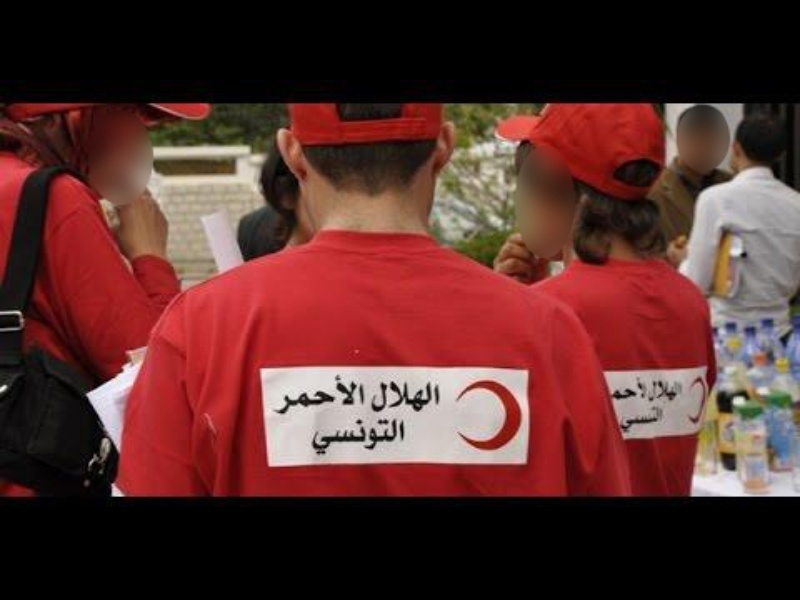text: (289, 372, 304, 417), (305, 372, 320, 417), (321, 372, 336, 417), (337, 372, 352, 417), (353, 372, 367, 417), (321, 416, 336, 457), (337, 416, 352, 457), (353, 416, 368, 457), (369, 416, 384, 457), (385, 416, 400, 457), (369, 377, 384, 414), (385, 377, 400, 414), (401, 377, 416, 414), (417, 377, 432, 414), (625, 402, 640, 436), (641, 402, 656, 436), (609, 376, 624, 406), (625, 376, 640, 406), (657, 377, 672, 402), (311, 416, 320, 457), (657, 402, 666, 436), (433, 377, 441, 414), (673, 377, 684, 402), (616, 402, 624, 436), (282, 372, 288, 417), (401, 416, 407, 457), (641, 376, 647, 406), (649, 377, 656, 402), (367, 377, 368, 414)
